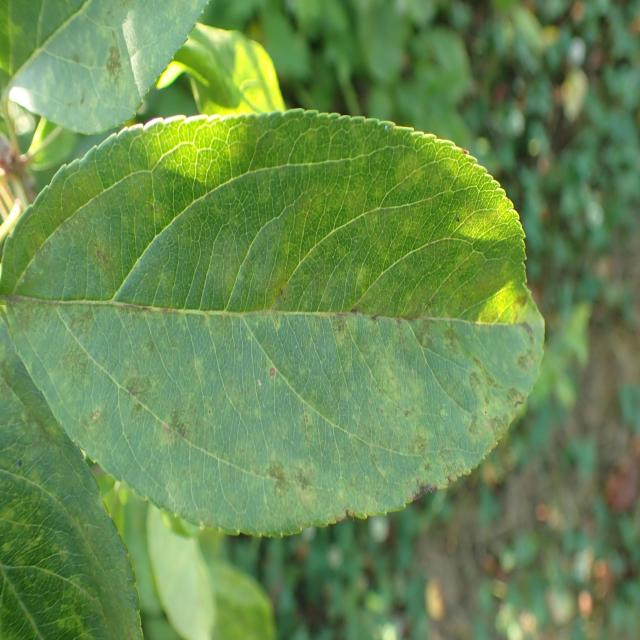scab: (5, 190, 544, 507), (10, 0, 177, 142)
